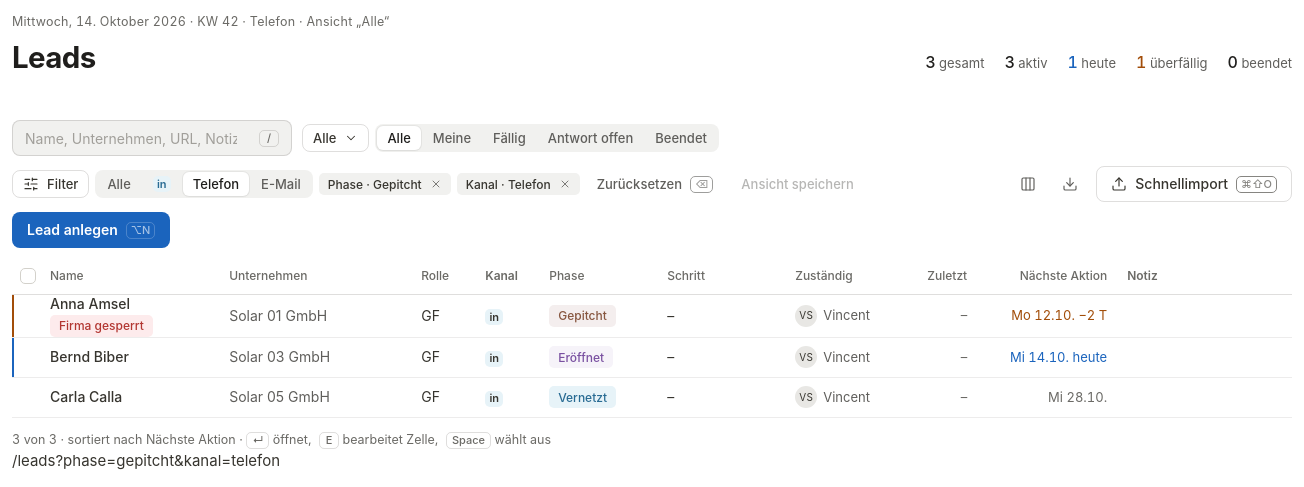
Test: LeadsSeite › Filter-Chip aus der URL, × entfernt ihn, Zurücksetzen leert die Overrides (LE-04)
The width and height of the screenshot is (1304, 487).
Expected: the text "Phase · Gepitcht" is shown, [328, 177, 422, 192]
Expected: the text "Kanal · Telefon" is shown, [466, 177, 551, 192]
Click the button named "Entfernen" next to "Phase · Gepitcht": x=436, y=184 [430, 178, 442, 190]
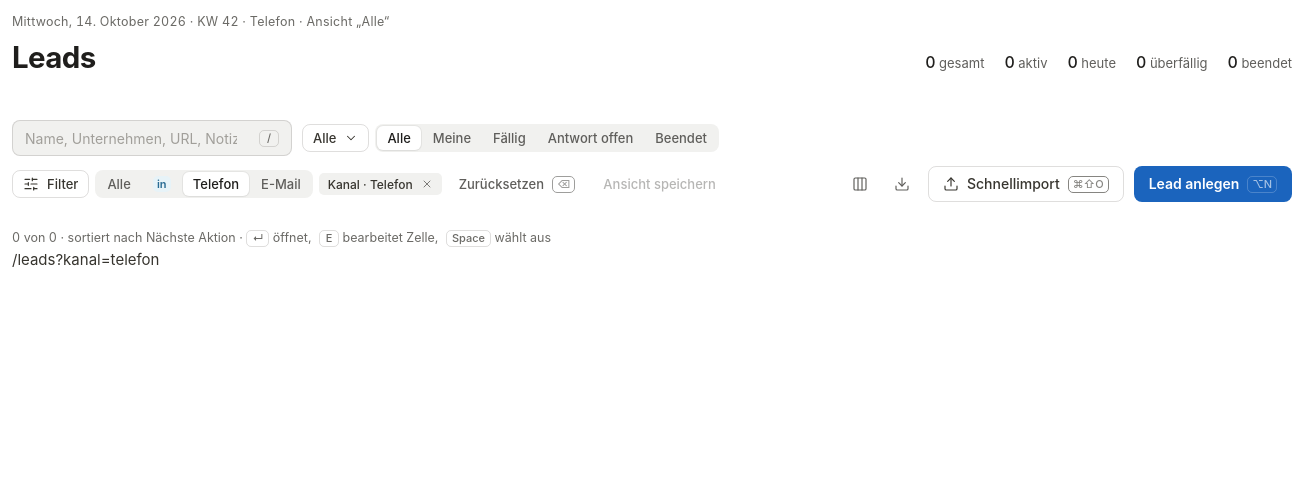
Expected: the text with test id "ort" shows "kanal=telefon", [12, 250, 160, 269]
Expected: the text with test id "ort" no longer shows "phase="
Click the button "Zurücksetzen ⌫": x=517, y=184 [448, 170, 586, 198]
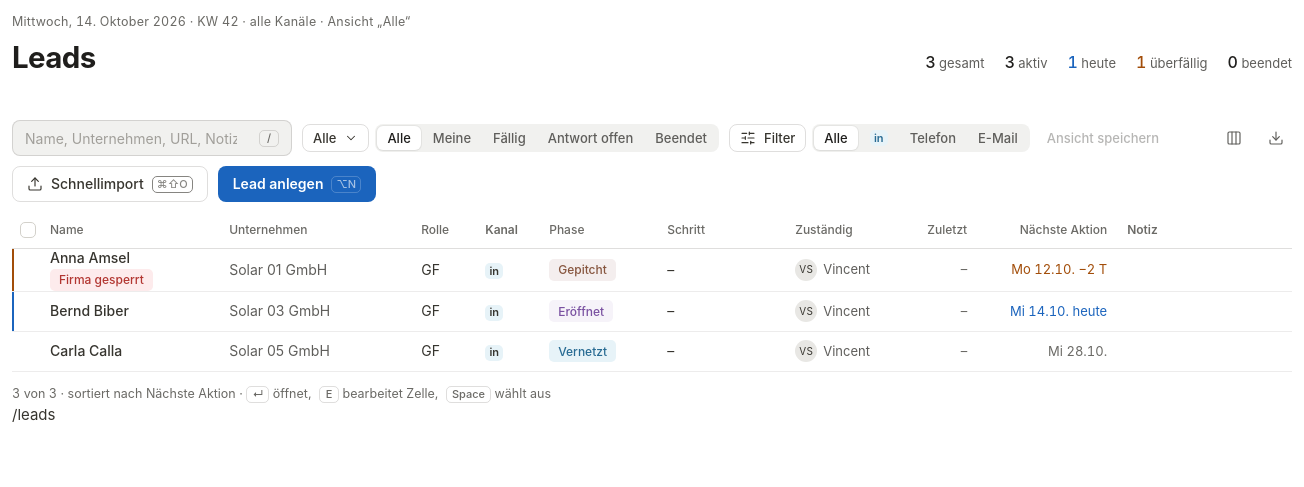
Expected: the text with test id "ort" reads "/leads", [12, 405, 56, 424]
